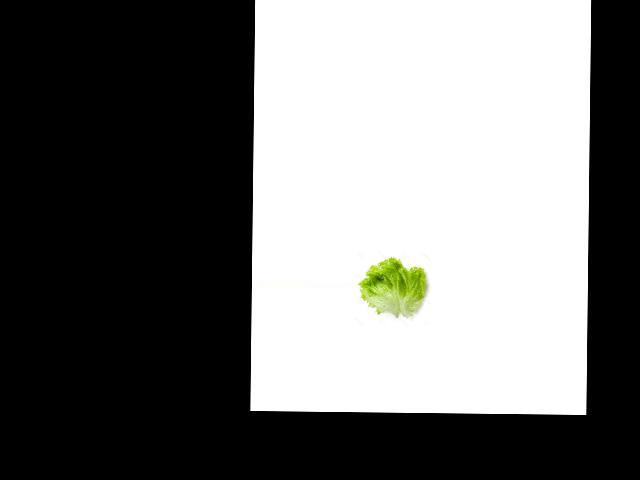lettuce: (356, 259, 432, 319)
